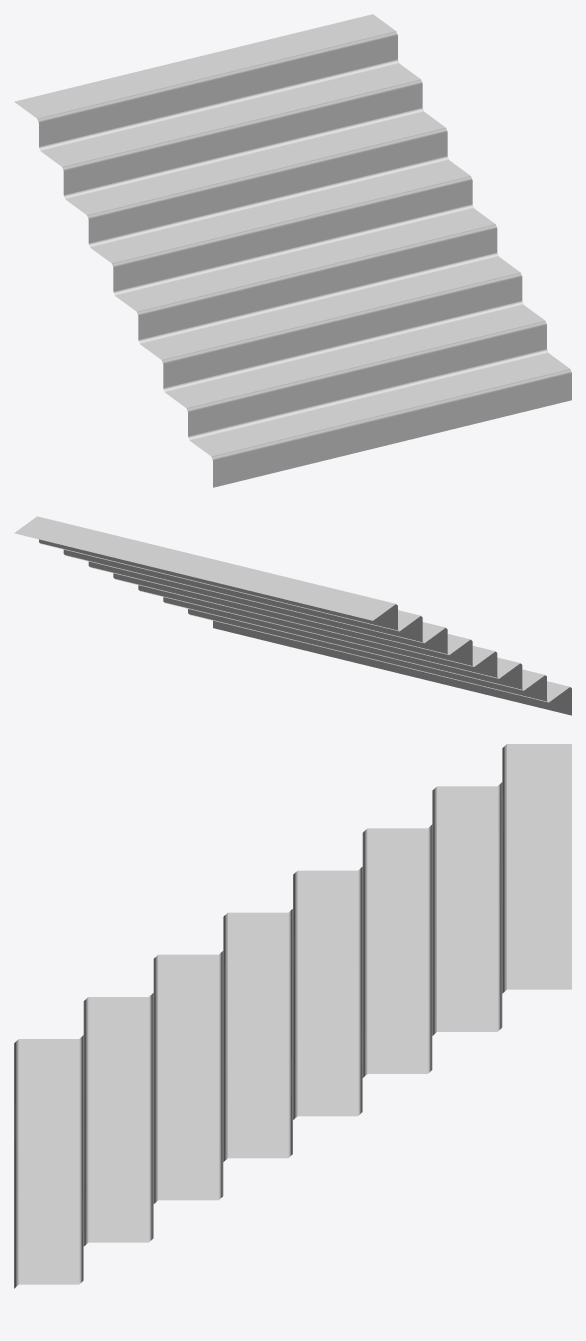
File: Stairs1.fbx
3 views of the same model, one above another, from view 1: azimuth 30°, elevation 25°; view 2: azimuth 150°, elevation 25°; view 3: azimuth 270°, elevation 25° (orthographic). The views are drawn at different scales.
Parts seen in each view (by area): view 1: Stairs2; view 2: Stairs2; view 3: Stairs2.
Boxes of the visible parts, left/top/right/bottom form: Stairs2: left=14, top=14, right=571, bottom=487; Stairs2: left=14, top=516, right=571, bottom=715; Stairs2: left=14, top=744, right=571, bottom=1288.
Size of the model in its own units: 250 by 160 by 240.
